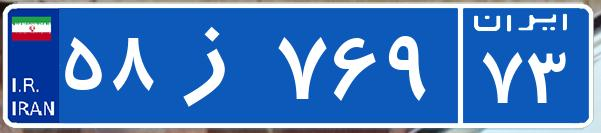3: (525, 38, 570, 115)
5: (57, 26, 110, 107)
6: (330, 28, 385, 110)
7: (273, 28, 330, 110), (475, 38, 525, 113)
8: (110, 28, 158, 105)
9: (385, 28, 445, 110)
ز: (158, 15, 273, 115)
